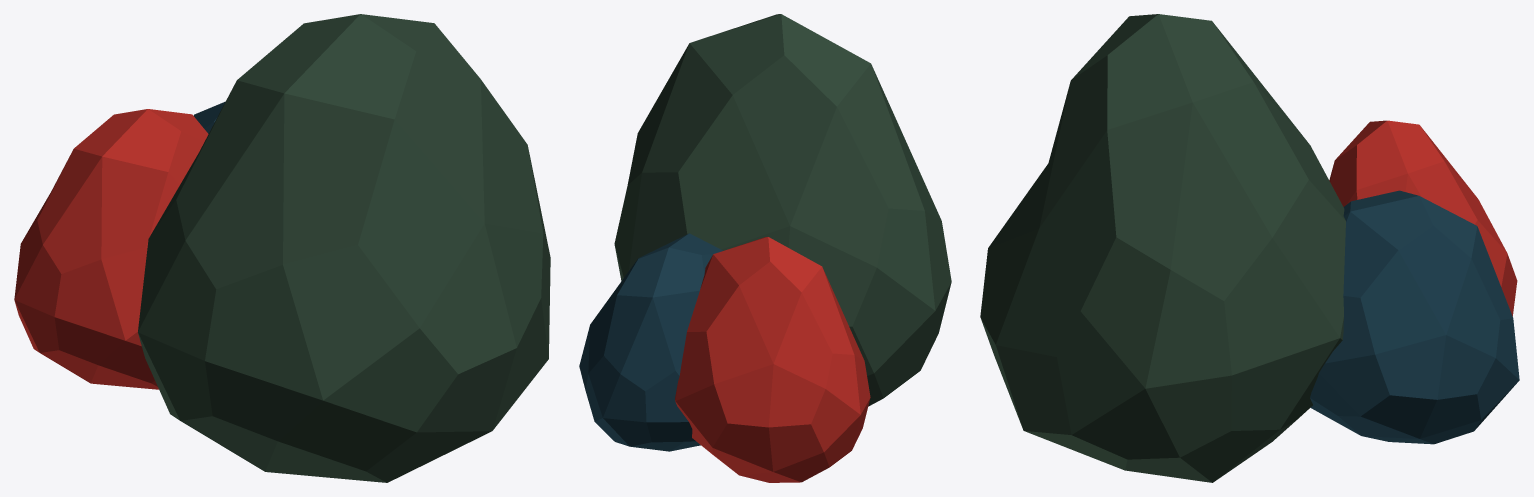
Rendered from Rock2.obj.
3 views of the same model, side by side, from view 1: azimuth 30°, elevation 25°; view 2: azimuth 150°, elevation 25°; view 3: azimuth 270°, elevation 25° (orthographic). The views are drawn at different scales.
Parts seen in each view (by area): view 1: pasted__pasted__pasted__pasted__pasted__pasted__pPlatonic2 paste, pasted__pasted__pasted__pasted__pasted__pPlatonic2 pasted__paste; view 2: pasted__pasted__pasted__pasted__pasted__pasted__pPlatonic2 paste, pasted__pasted__pasted__pasted__pasted__pPlatonic2 pasted__paste, pasted__pasted__pasted__pasted__pPlatonic2 pasted__pasted__paste; view 3: pasted__pasted__pasted__pasted__pasted__pasted__pPlatonic2 paste, pasted__pasted__pasted__pasted__pPlatonic2 pasted__pasted__paste, pasted__pasted__pasted__pasted__pasted__pPlatonic2 pasted__paste.
Part boxes in pixels (x1=…): pasted__pasted__pasted__pasted__pasted__pasted__pPlatonic2 paste: x1=138, y1=14, x2=550, y2=482; pasted__pasted__pasted__pasted__pasted__pPlatonic2 pasted__paste: x1=14, y1=109, x2=208, y2=389; pasted__pasted__pasted__pasted__pasted__pasted__pPlatonic2 paste: x1=614, y1=14, x2=951, y2=406; pasted__pasted__pasted__pasted__pasted__pPlatonic2 pasted__paste: x1=675, y1=237, x2=870, y2=482; pasted__pasted__pasted__pasted__pPlatonic2 pasted__pasted__paste: x1=579, y1=233, x2=723, y2=451; pasted__pasted__pasted__pasted__pasted__pasted__pPlatonic2 paste: x1=980, y1=14, x2=1345, y2=482; pasted__pasted__pasted__pasted__pPlatonic2 pasted__pasted__paste: x1=1310, y1=190, x2=1519, y2=444; pasted__pasted__pasted__pasted__pasted__pPlatonic2 pasted__paste: x1=1329, y1=120, x2=1517, y2=316.
Bounding box in the file's own units: 11.84 × 12.61 × 13.66.
